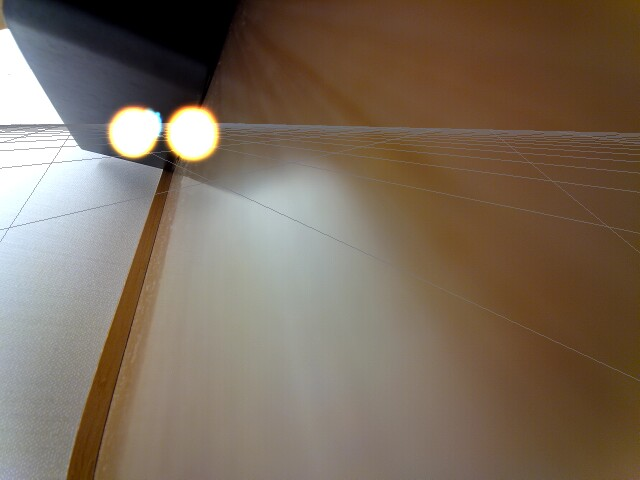firebig: (163, 105, 222, 169)
